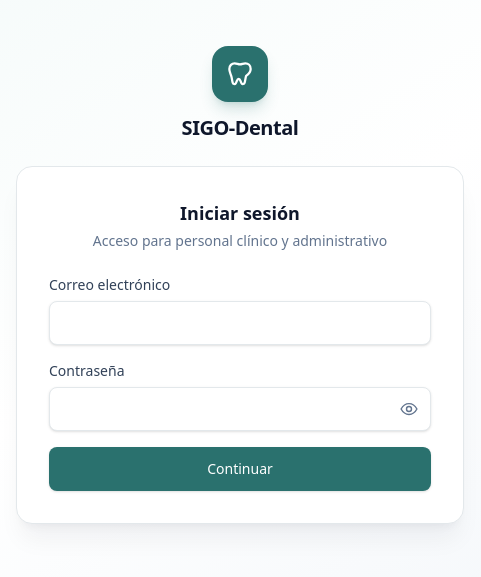
Test: LoginPage › muestra el error del servidor sin revelar detalles
In the field labelled "Correo electrónico": (240, 323) left=49, top=301, right=431, bottom=345, type "a@b.co"
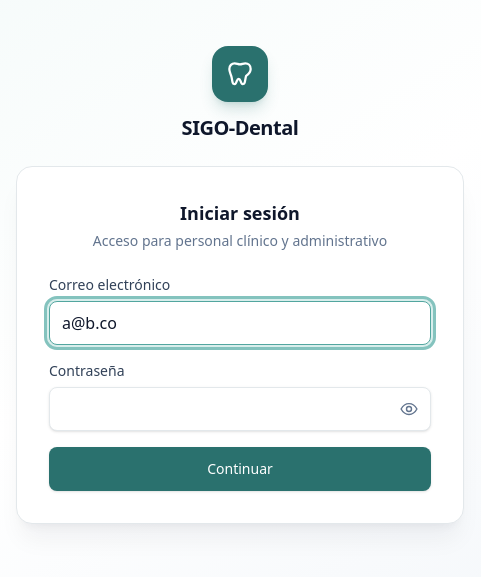
In the password field labelled "Contraseña": (240, 409) left=49, top=387, right=431, bottom=431, type "x"
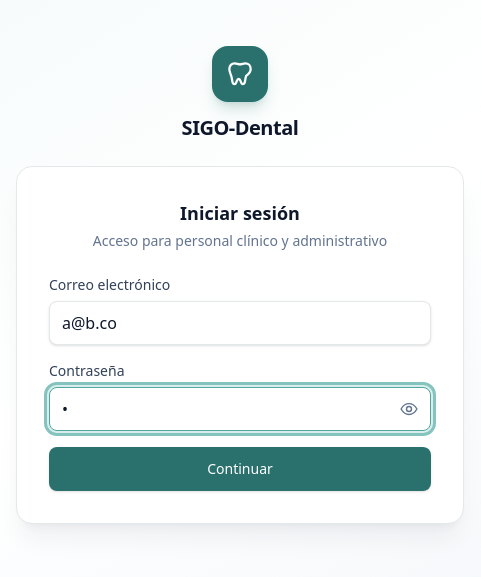
Click the button "Continuar": (240, 469) left=49, top=447, right=431, bottom=491
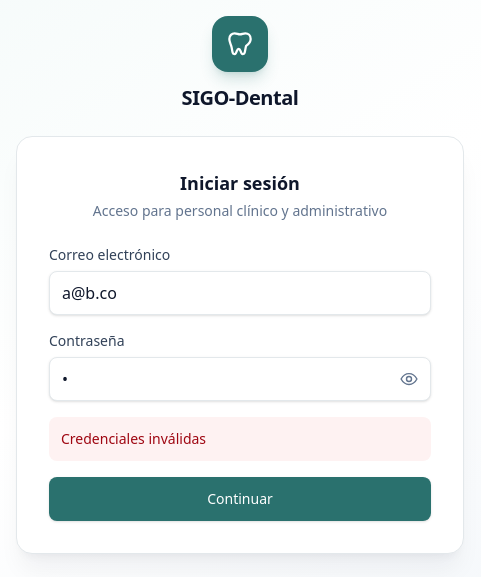
Result: the message reads "Credenciales inválidas" at left=61, top=429, right=206, bottom=448
